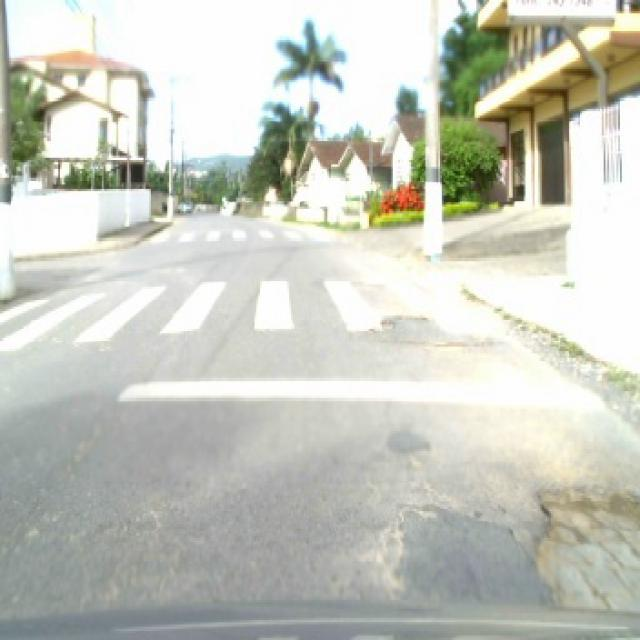Poth-hole: (524, 484, 636, 609), (371, 496, 444, 602), (400, 336, 498, 348), (392, 311, 430, 322), (367, 318, 395, 332)
